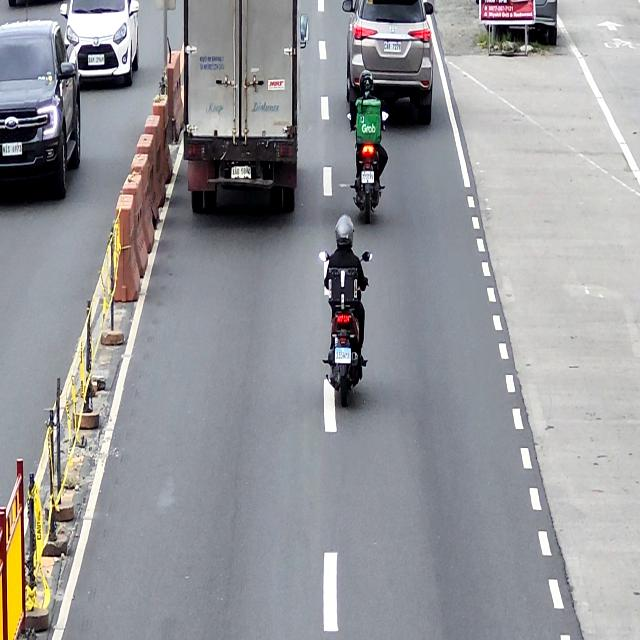Car: (0, 21, 82, 197), (342, 0, 433, 126), (59, 0, 139, 88)
License-Plate: (1, 143, 23, 157), (335, 347, 351, 363), (231, 166, 251, 178), (383, 41, 402, 53), (88, 54, 105, 66), (361, 170, 374, 184)
Motorcycle: (320, 250, 373, 406), (348, 109, 389, 225)
Truck: (182, 0, 310, 215)
